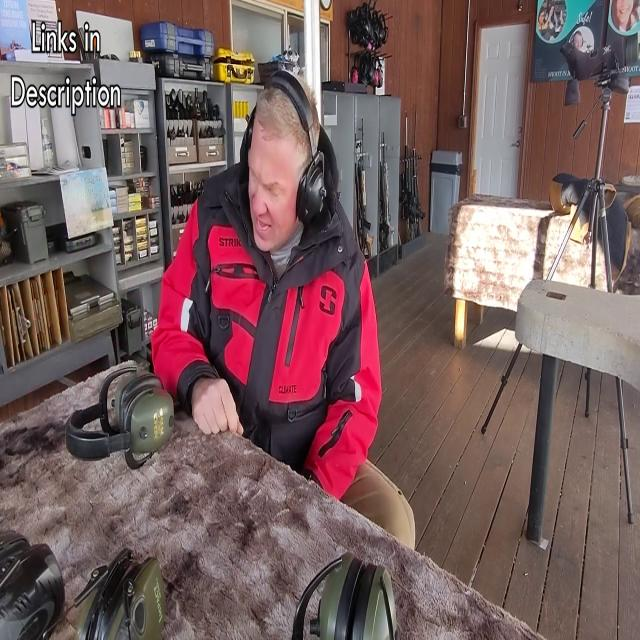earmuff: (295, 154, 330, 228), (237, 108, 257, 167)
